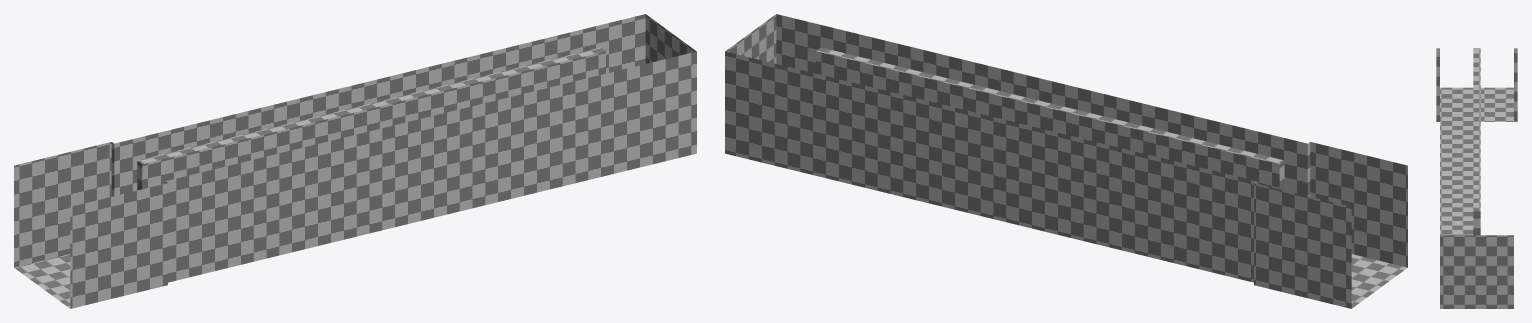
Rendered from ParaCaminar.obj.
3 renders of one model, left to right at view 1: azimuth 30°, elevation 25°; view 2: azimuth 150°, elevation 25°; view 3: azimuth 270°, elevation 25°, orthographic. The views are drawn at different scales.
Visible parts, largest first — view 1: principal_y_zona_de_caminar-correr; view 2: principal_y_zona_de_caminar-correr; view 3: principal_y_zona_de_caminar-correr.
Part boxes in pixels (x1=…): principal_y_zona_de_caminar-correr: x1=14, y1=14, x2=696, y2=308; principal_y_zona_de_caminar-correr: x1=725, y1=14, x2=1407, y2=308; principal_y_zona_de_caminar-correr: x1=1436, y1=48, x2=1517, y2=308.
Bounding box in the file's own units: 129 × 20 × 20.
